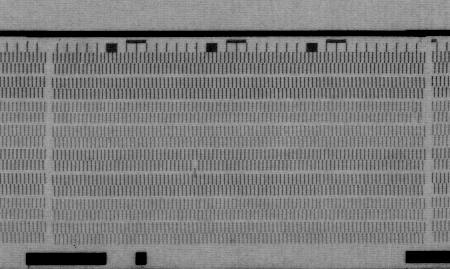Oblique printing: (189, 158, 201, 176), (410, 110, 421, 124)
